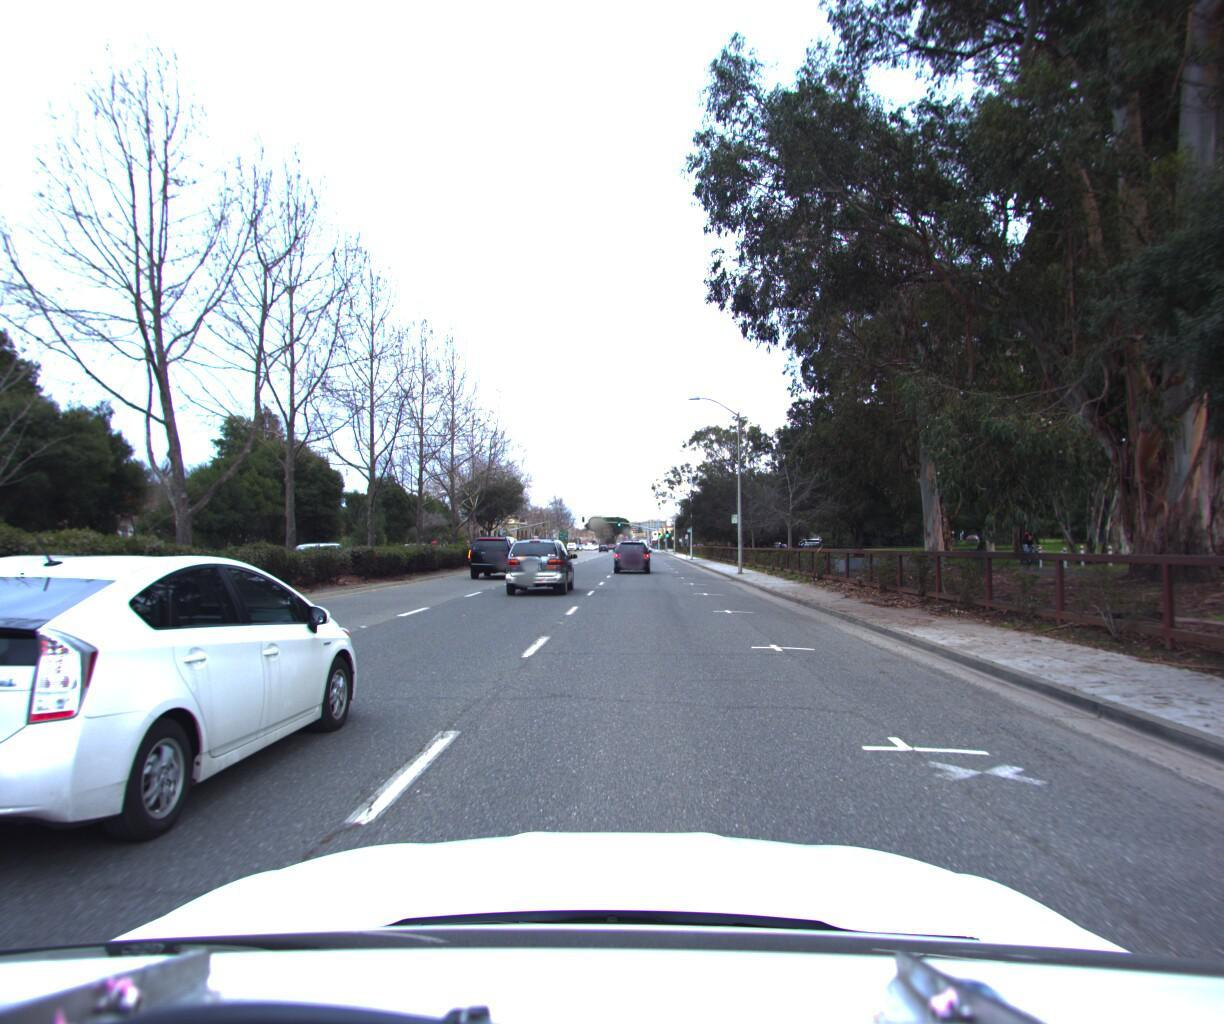bicycle: (1007, 513, 1045, 562)
car: (0, 538, 383, 892), (504, 529, 578, 591), (466, 529, 527, 574), (612, 535, 650, 568)
